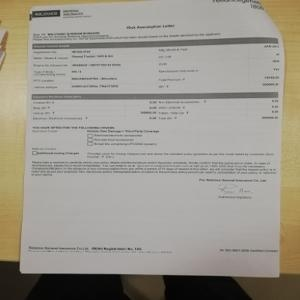image: (32, 7, 62, 18)
table: (31, 92, 281, 147), (30, 36, 282, 90)
text: (30, 158, 278, 177), (124, 22, 179, 30)
